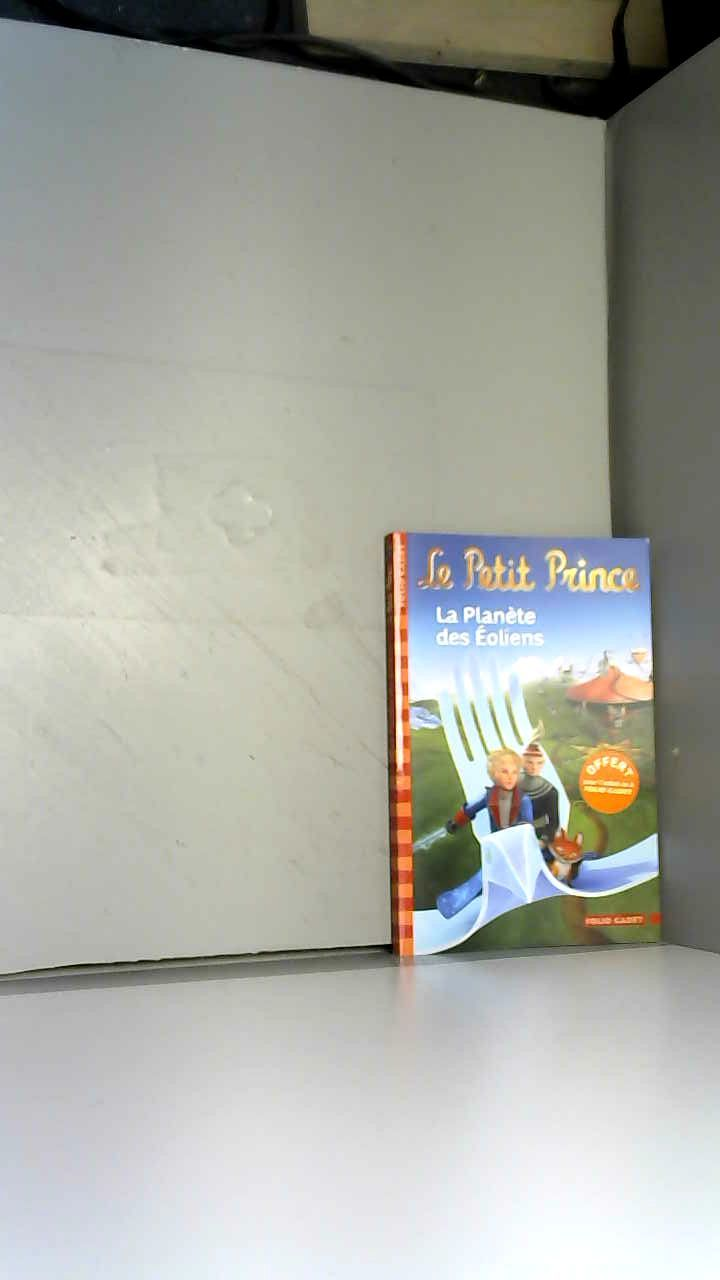book: (351, 493, 697, 996)
